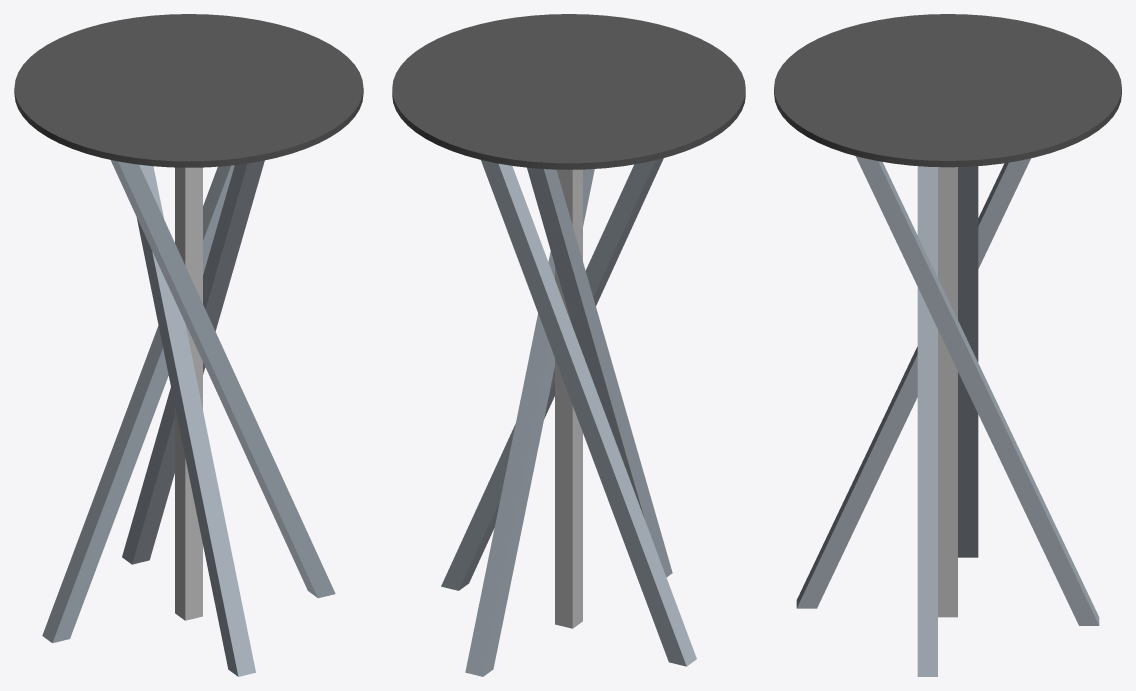
Rendered from bar v6.gltf.
The picture shows the model from 3 angles, left to right: view 1: azimuth 30°, elevation 25°; view 2: azimuth 150°, elevation 25°; view 3: azimuth 270°, elevation 25°; orthographic projection.
Size of the model in its own units: 60 by 100 by 60.
